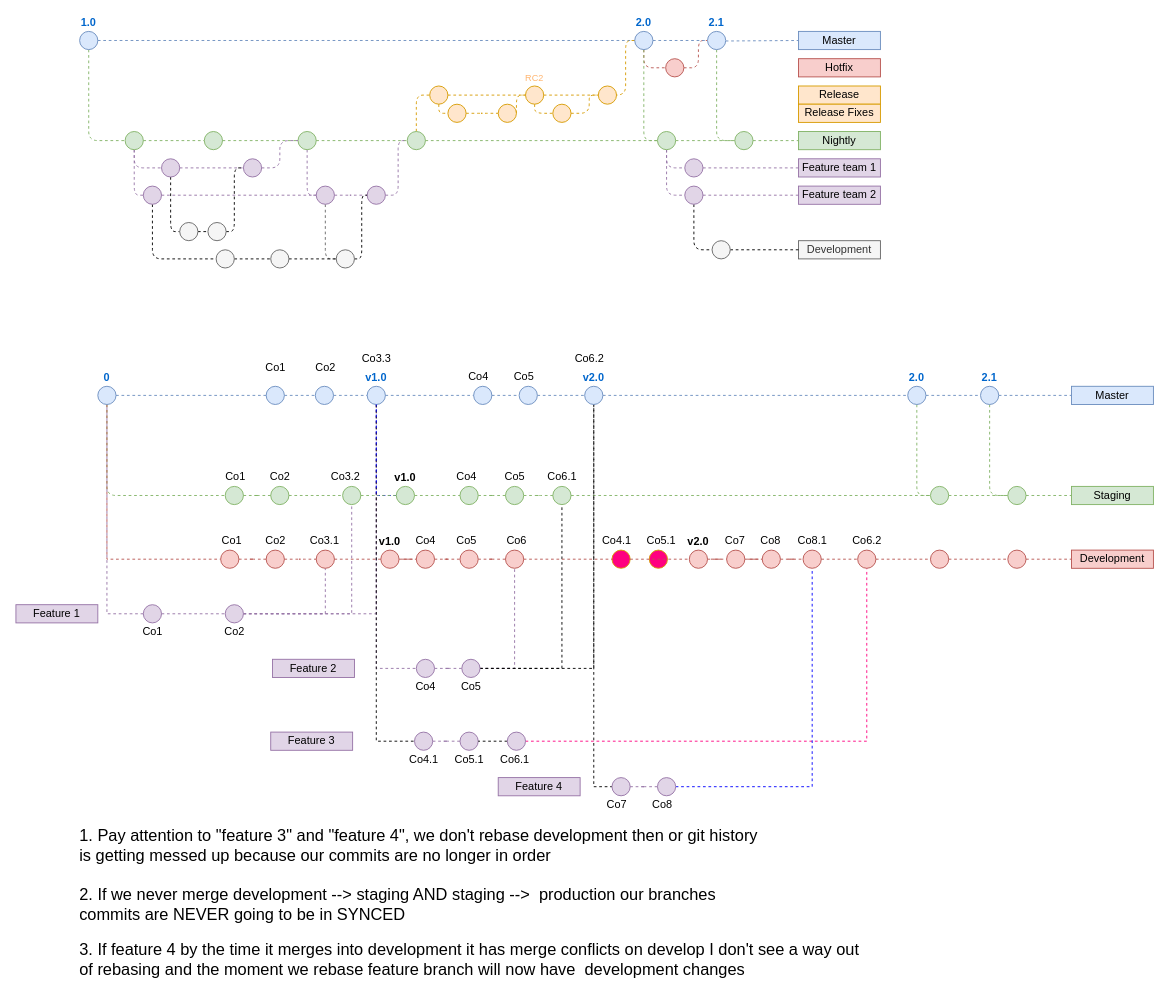
Image size: 1169x995. Some labels were removed from this diagram. The centre of each missing label's shape, as x and y in pixels:
RC1: point (438, 94)
RC3: point (607, 94)
